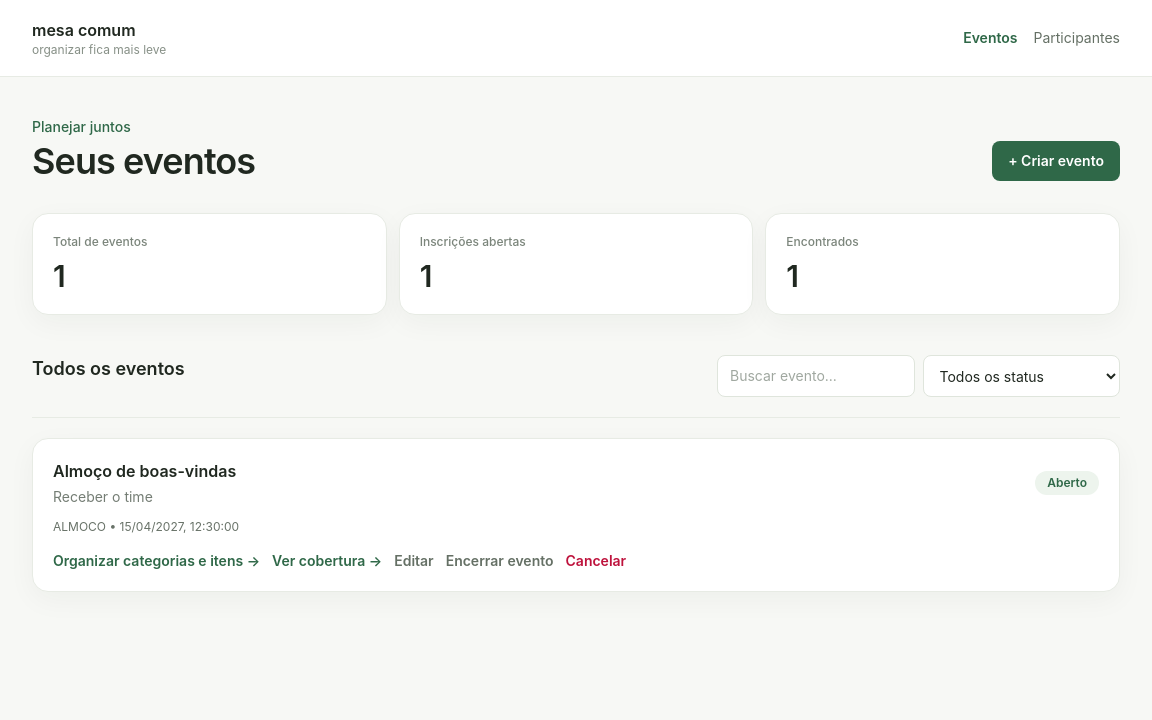
Test: EventosPage › lista eventos da API e filtra pela busca
Expected: the heading "Almoço de boas-vindas" is shown, [53, 459, 236, 483]
Type "inexistente" into the search field labelled "Buscar evento" at (816, 376), box [717, 355, 914, 397]
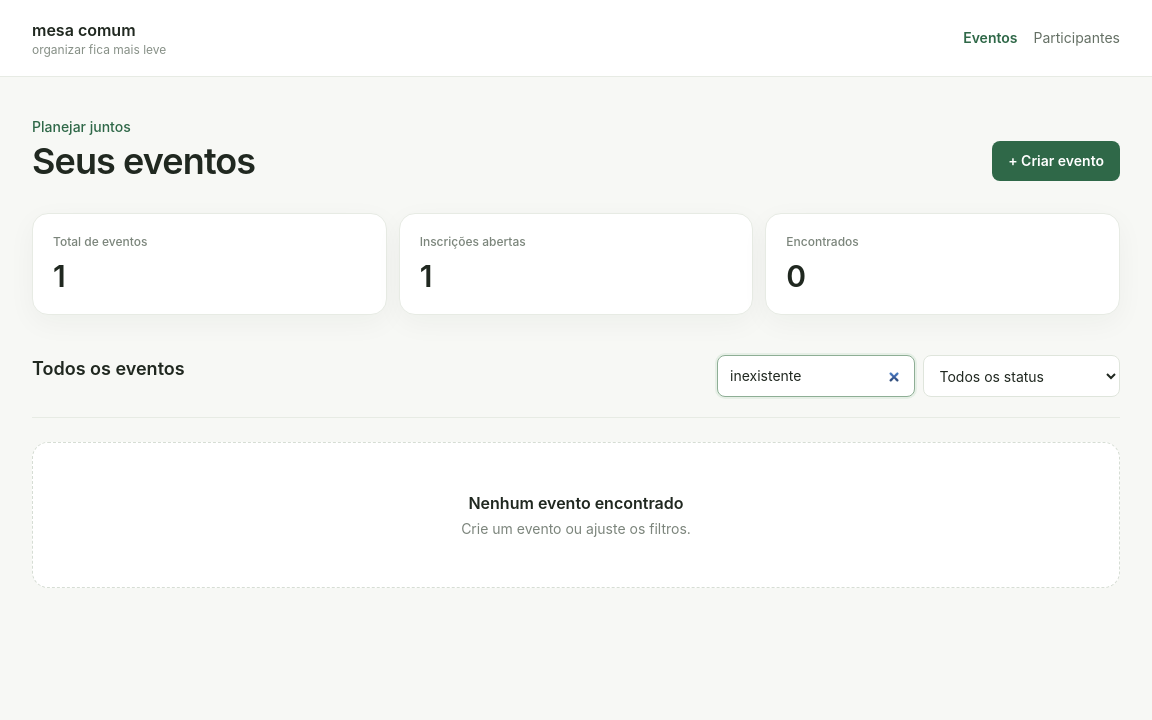
Expected: the heading "Nenhum evento encontrado" is shown, [468, 493, 684, 513]
